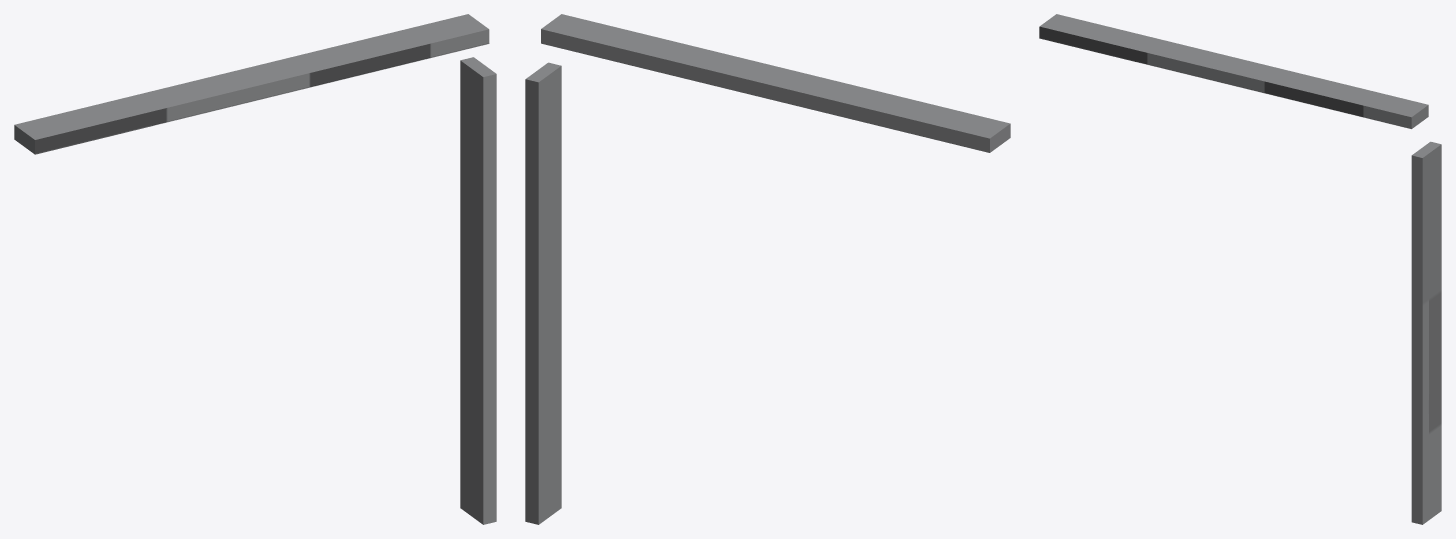
3 views of the same model, side by side, from view 1: azimuth 30°, elevation 25°; view 2: azimuth 150°, elevation 25°; view 3: azimuth 330°, elevation 25° (orthographic). The views are drawn at different scales.
Bounding box in the file's own units: 0.9813 × 1 × 0.0954.
